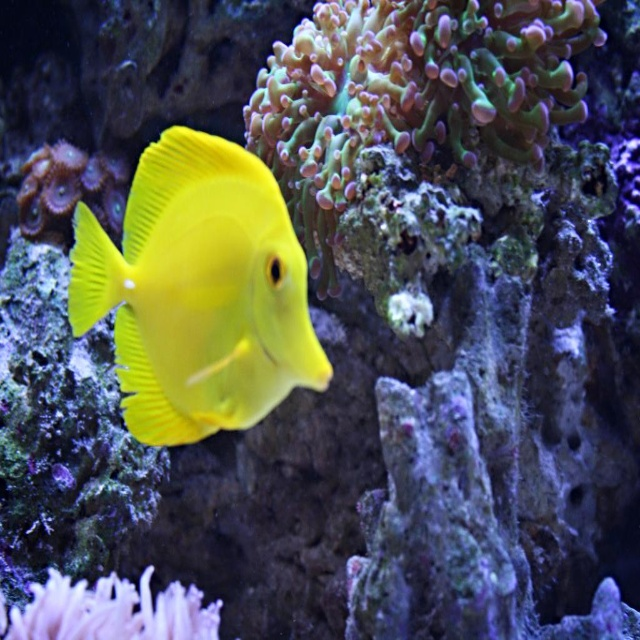Fish: (68, 125, 334, 447)
